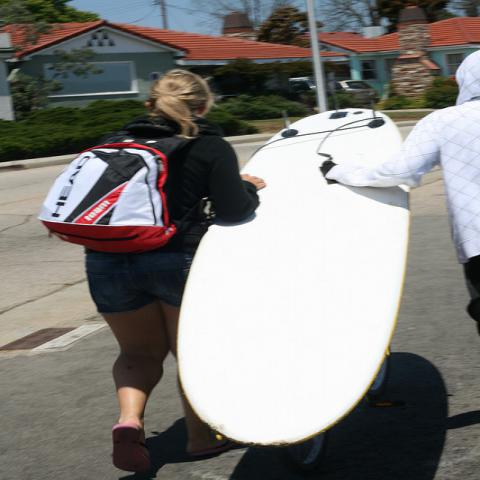car: (338, 80, 375, 104)
